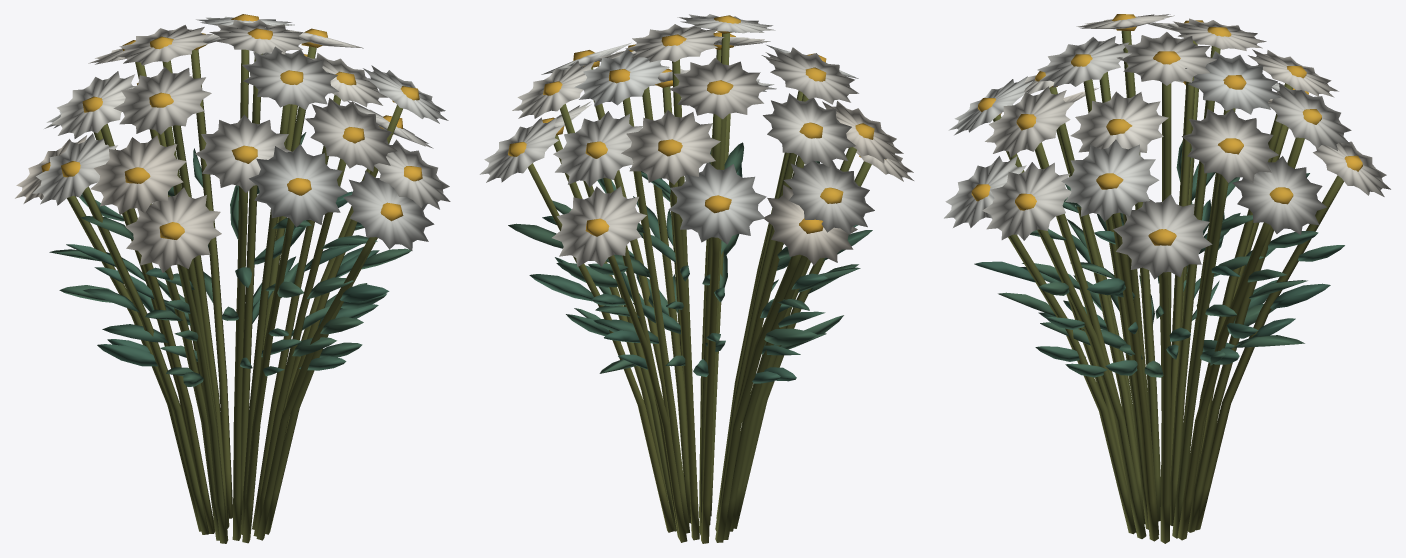
Rendered from bucket_daisies.glb.
3 views of the same model, side by side, from view 1: azimuth 30°, elevation 25°; view 2: azimuth 150°, elevation 25°; view 3: azimuth 270°, elevation 25° (orthographic).
Parts seen in each view (by area): view 1: Sammel Pflanze, Sammel Putz; view 2: Sammel Pflanze, Sammel Putz; view 3: Sammel Pflanze, Sammel Putz.
Boxes of the visible parts, box(x1,y1,x2,y2) form: Sammel Pflanze: box(15, 14, 450, 386); Sammel Putz: box(67, 46, 402, 543); Sammel Pflanze: box(479, 14, 913, 383); Sammel Putz: box(528, 33, 871, 543); Sammel Pflanze: box(944, 14, 1390, 377); Sammel Putz: box(993, 30, 1343, 543).
Bounding box in the file's own units: 0.3885 × 0.4919 × 0.4087.
